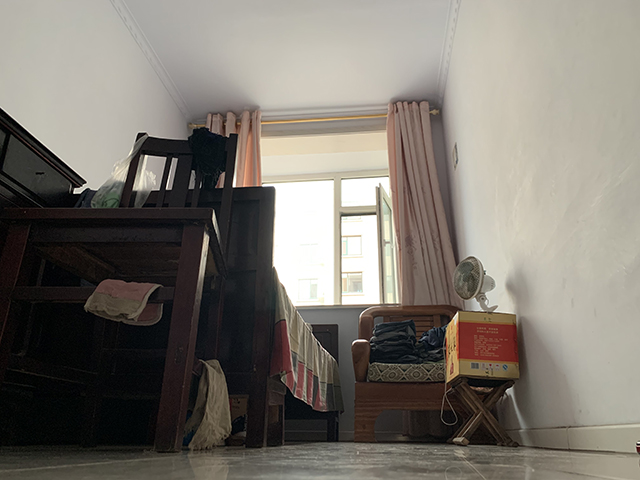bed: (73, 183, 344, 449)
curtain: (385, 95, 454, 302)
stool: (1, 124, 246, 455), (349, 302, 465, 444), (445, 374, 521, 449)
